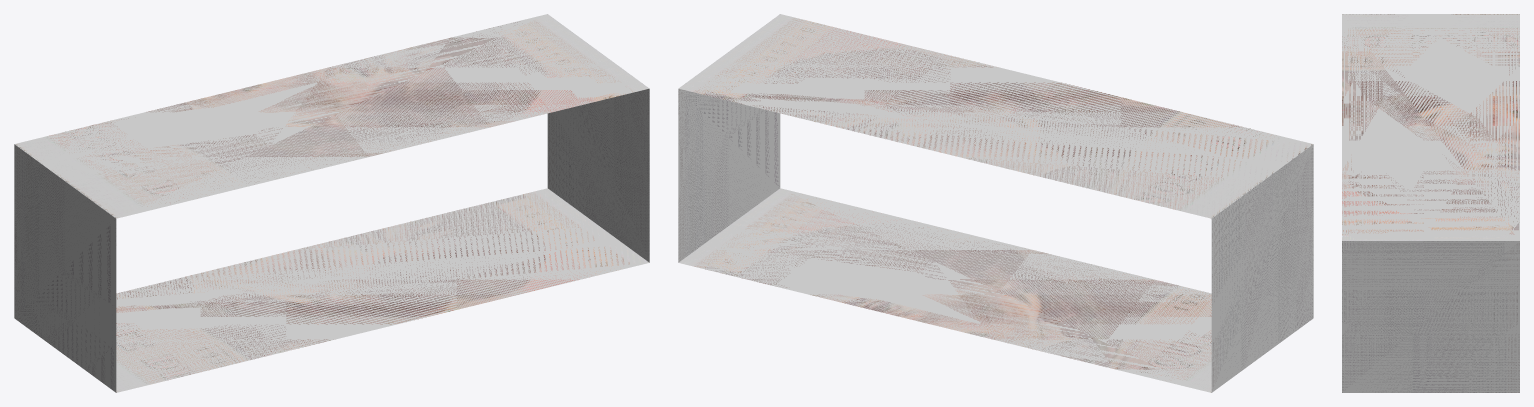
The model's file is original-58.obj.
3 views of the same model, side by side, from view 1: azimuth 30°, elevation 25°; view 2: azimuth 150°, elevation 25°; view 3: azimuth 270°, elevation 25° (orthographic). The views are drawn at different scales.
Visible parts, largest first — view 1: #ID290; view 2: #ID290; view 3: #ID290.
Boxes of the visible parts, x1,y1,x2,y2 form: #ID290: (14, 14, 649, 392); #ID290: (678, 14, 1313, 392); #ID290: (1342, 14, 1519, 392).
Size of the model in its own units: 0.0882 by 0.0275 by 0.0292.
Materials: 2 (1 with a texture image).
